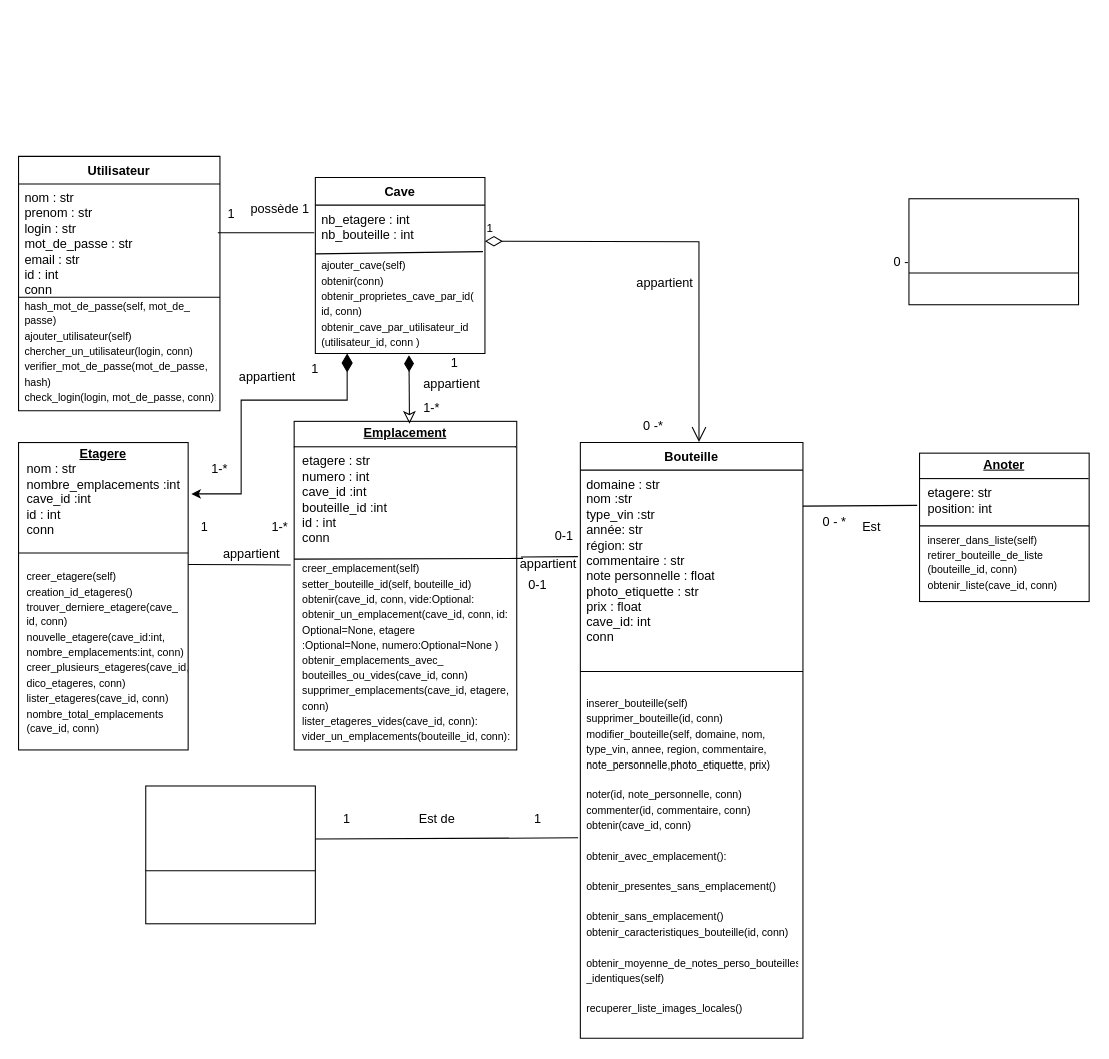
The diagram is 1109 pixels wide and 1059 high, and some of its shapes have lost their labels. The box of each missing label's shape, as (x1, y1, x2, y2) in pixels:
BD conn creer_tables(self): (908, 198, 1079, 305)
Region nom (str) id (int) conn ajouter_region(self) toutes_les_regions(conn): (145, 785, 315, 924)
